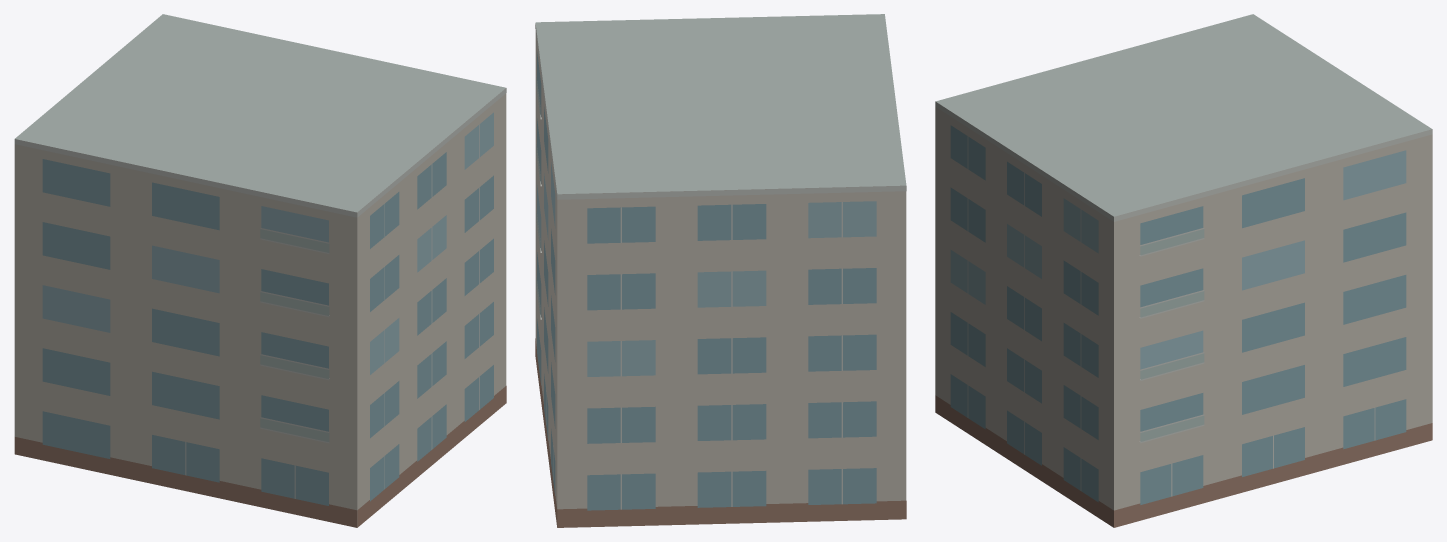
Rendered from survey-upis-32726440.glb.
3 views of the same model, side by side, from view 1: azimuth 30°, elevation 25°; view 2: azimuth 150°, elevation 25°; view 3: azimuth 270°, elevation 25° (orthographic). The views are drawn at different scales.
Parts seen in each view (by area): view 1: survey-upis-32726440.tmp; view 2: survey-upis-32726440.tmp; view 3: survey-upis-32726440.tmp.
Part boxes in pixels (left/top/right/bottom): survey-upis-32726440.tmp: left=14, top=14, right=506, bottom=527; survey-upis-32726440.tmp: left=535, top=14, right=906, bottom=527; survey-upis-32726440.tmp: left=935, top=14, right=1432, bottom=527.
Bounding box in the file's own units: 20.42 × 14.6 × 21.15.
